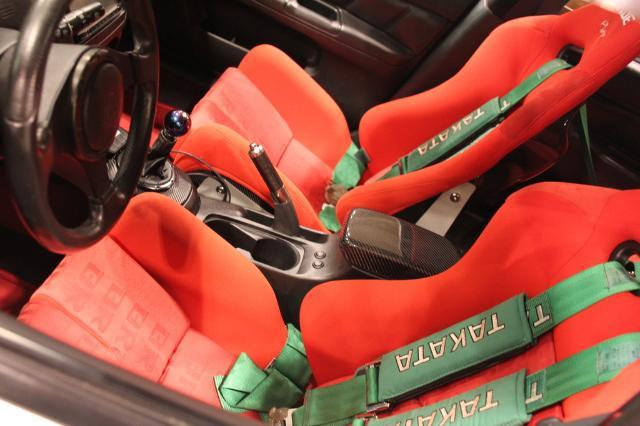Seatbelt: (273, 258, 639, 426), (317, 54, 605, 238)
